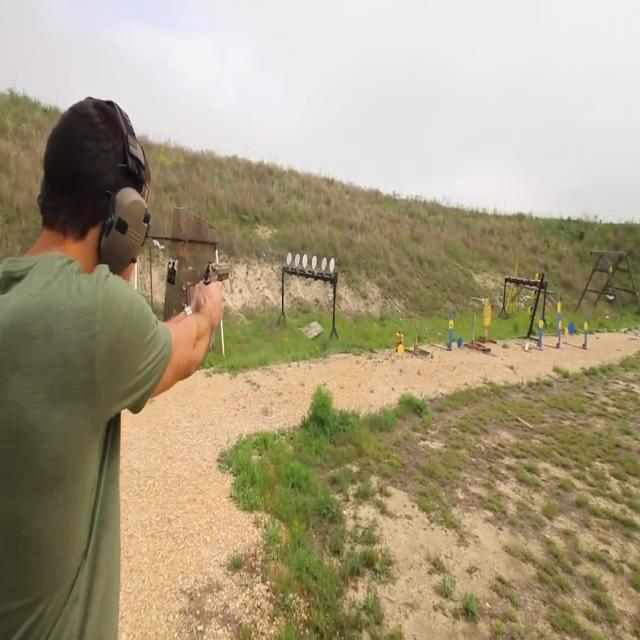Weapon: (195, 235, 242, 318)
